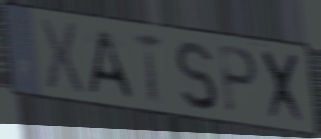A: (85, 27, 136, 102)
P: (217, 41, 260, 118)
S: (172, 37, 220, 113)
T: (131, 29, 166, 107)
X: (258, 47, 311, 129), (36, 15, 87, 96)
